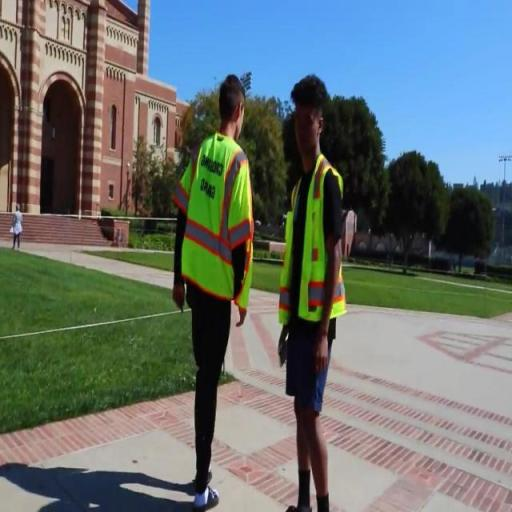vest: (174, 128, 258, 314), (274, 153, 354, 343)
